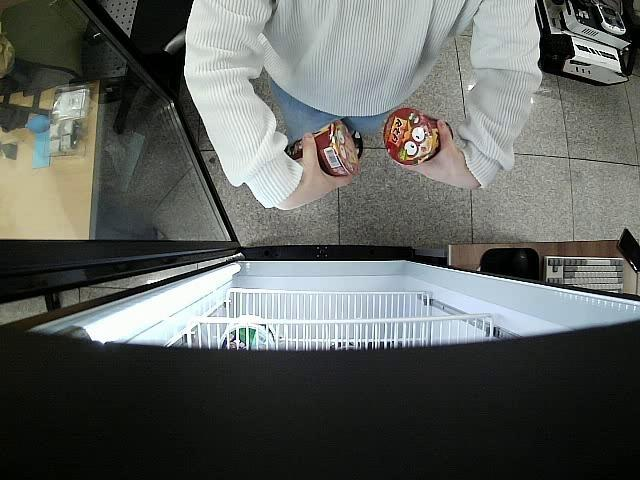06_nuguri_S: (282, 118, 363, 178), (382, 107, 453, 164)
